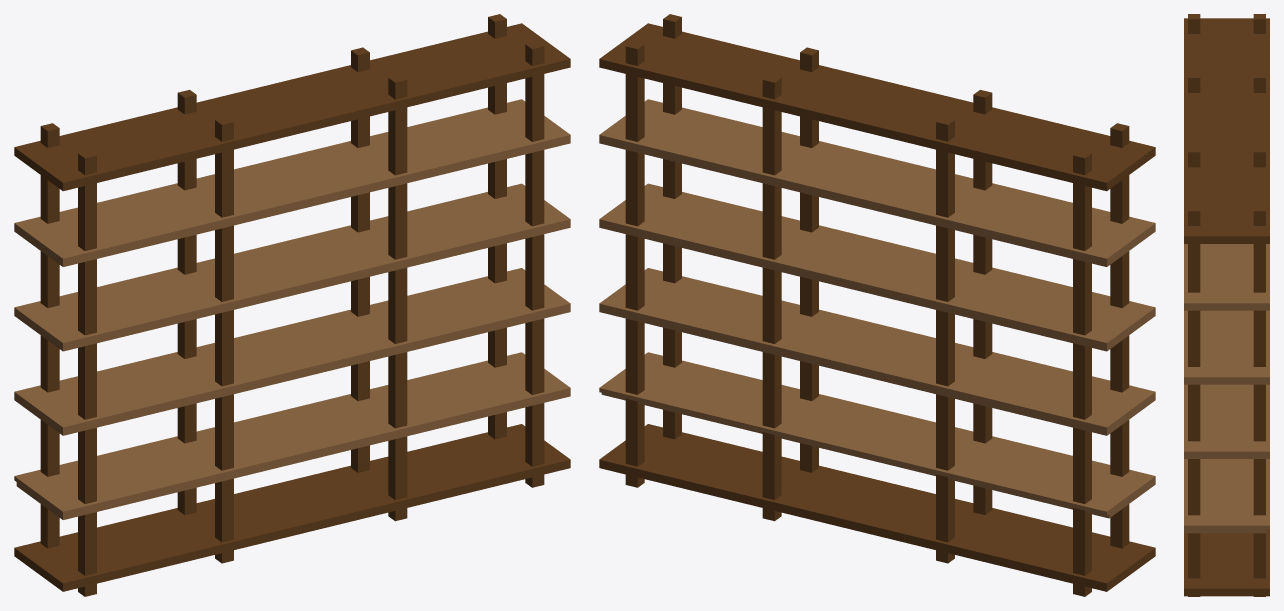
Rendered from etagere.obj.
3 renders of one model, left to right at view 1: azimuth 30°, elevation 25°; view 2: azimuth 150°, elevation 25°; view 3: azimuth 270°, elevation 25°, orthographic. The views are drawn at different scales.
Size of the model in its own units: 126 by 104 by 21.
1 material, 1 textured.
